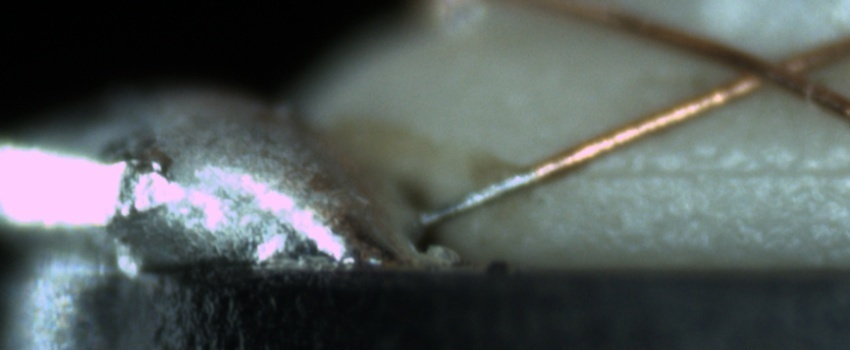CL: (705, 41, 837, 101)
DL: (564, 139, 849, 203)
TS: (419, 167, 538, 224)
